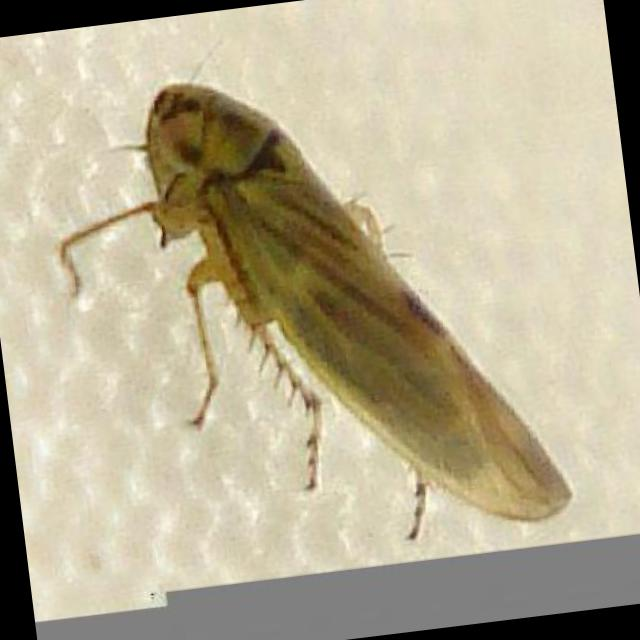green-leafhopper: (55, 81, 572, 541)
